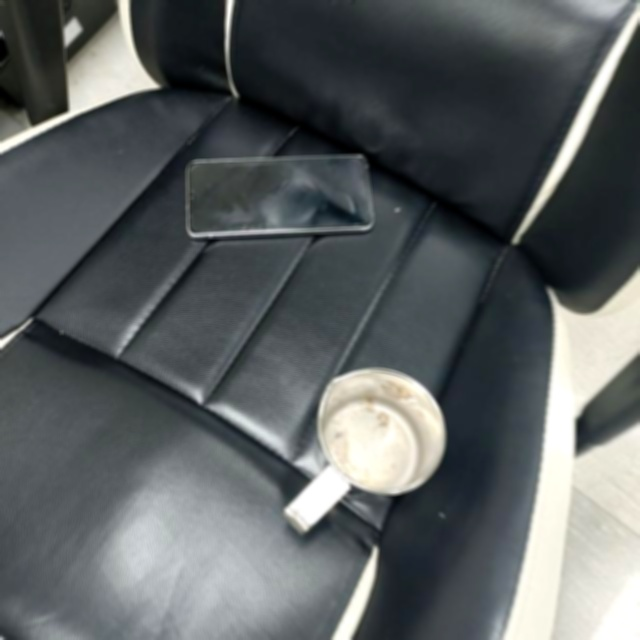cup: (279, 366, 447, 536)
phone: (185, 154, 374, 237)
